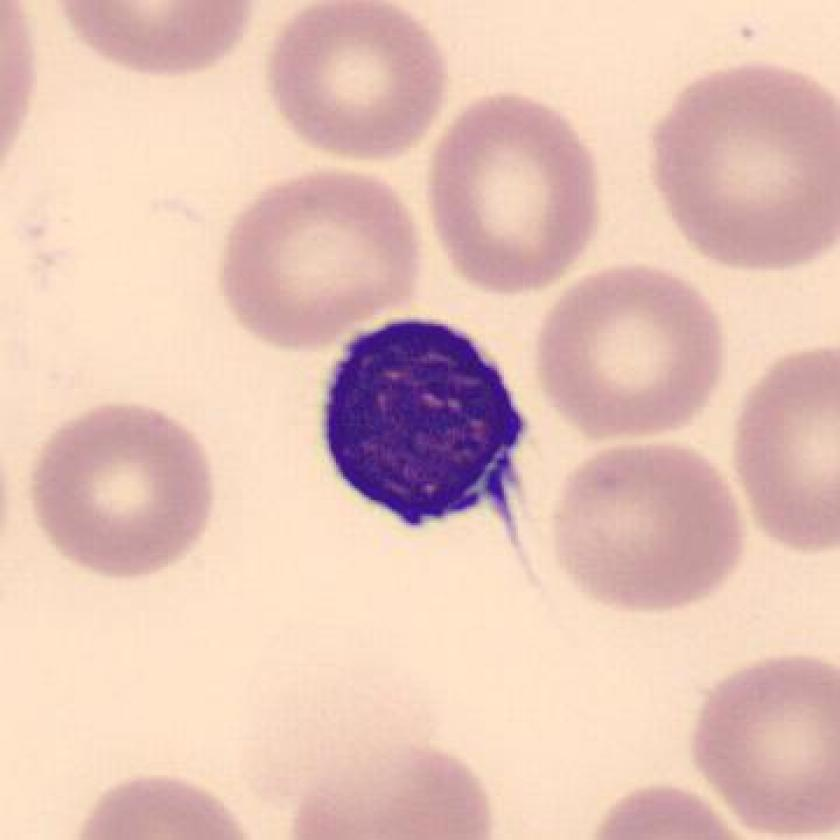lymphocyte: (309, 305, 538, 557)
